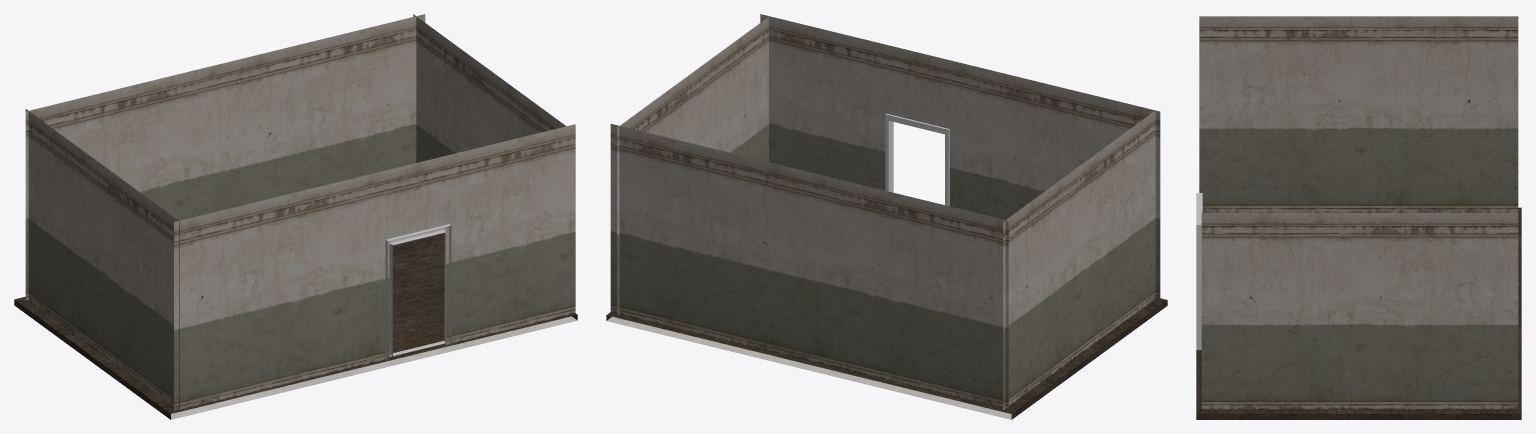
The model's file is room_6m_x_9m_sideroom_door_right.fbx.
The picture shows the model from 3 angles, left to right: view 1: azimuth 30°, elevation 25°; view 2: azimuth 150°, elevation 25°; view 3: azimuth 270°, elevation 25°; orthographic projection. The views are drawn at different scales.
Visible parts, largest first — view 1: room_6m_x_9m_sideroom_door_right; view 2: room_6m_x_9m_sideroom_door_right; view 3: room_6m_x_9m_sideroom_door_right.
Boxes of the visible parts, left/top/right/bottom form: room_6m_x_9m_sideroom_door_right: left=14, top=14, right=577, bottom=419; room_6m_x_9m_sideroom_door_right: left=606, top=14, right=1167, bottom=419; room_6m_x_9m_sideroom_door_right: left=1196, top=16, right=1521, bottom=419.
Bounding box in the file's own units: 900 × 412 × 600.
